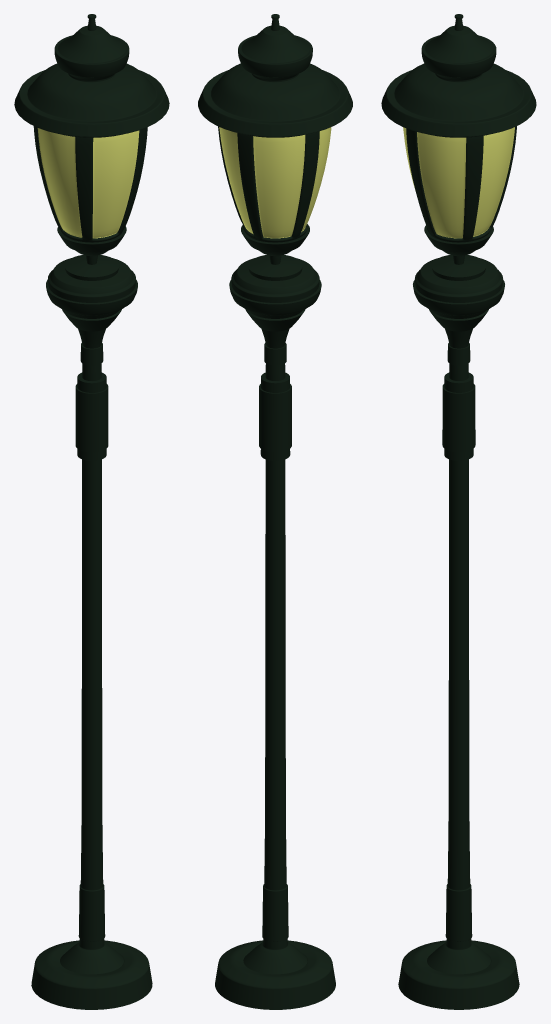
Rendered from Lamppost_Prop_v2.fbx.
The picture shows the model from 3 angles, left to right: view 1: azimuth 30°, elevation 25°; view 2: azimuth 150°, elevation 25°; view 3: azimuth 270°, elevation 25°; orthographic projection.
Visible parts, largest first — view 1: lamp1; view 2: lamp1; view 3: lamp1.
Boxes of the visible parts, x1=… form: lamp1: x1=14, y1=14, x2=169, y2=1009; lamp1: x1=198, y1=14, x2=352, y2=1009; lamp1: x1=381, y1=14, x2=536, y2=1009.
Bounding box in the file's own units: 35.52 × 245 × 35.52.
